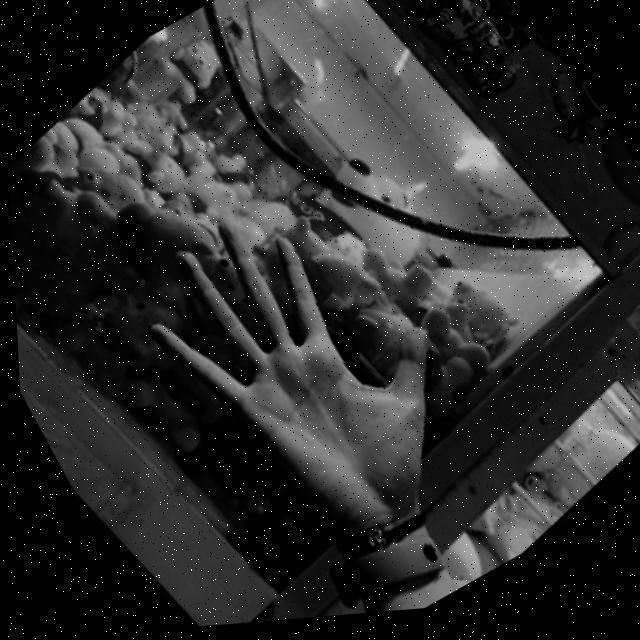no-gloves: (110, 150, 525, 633)
